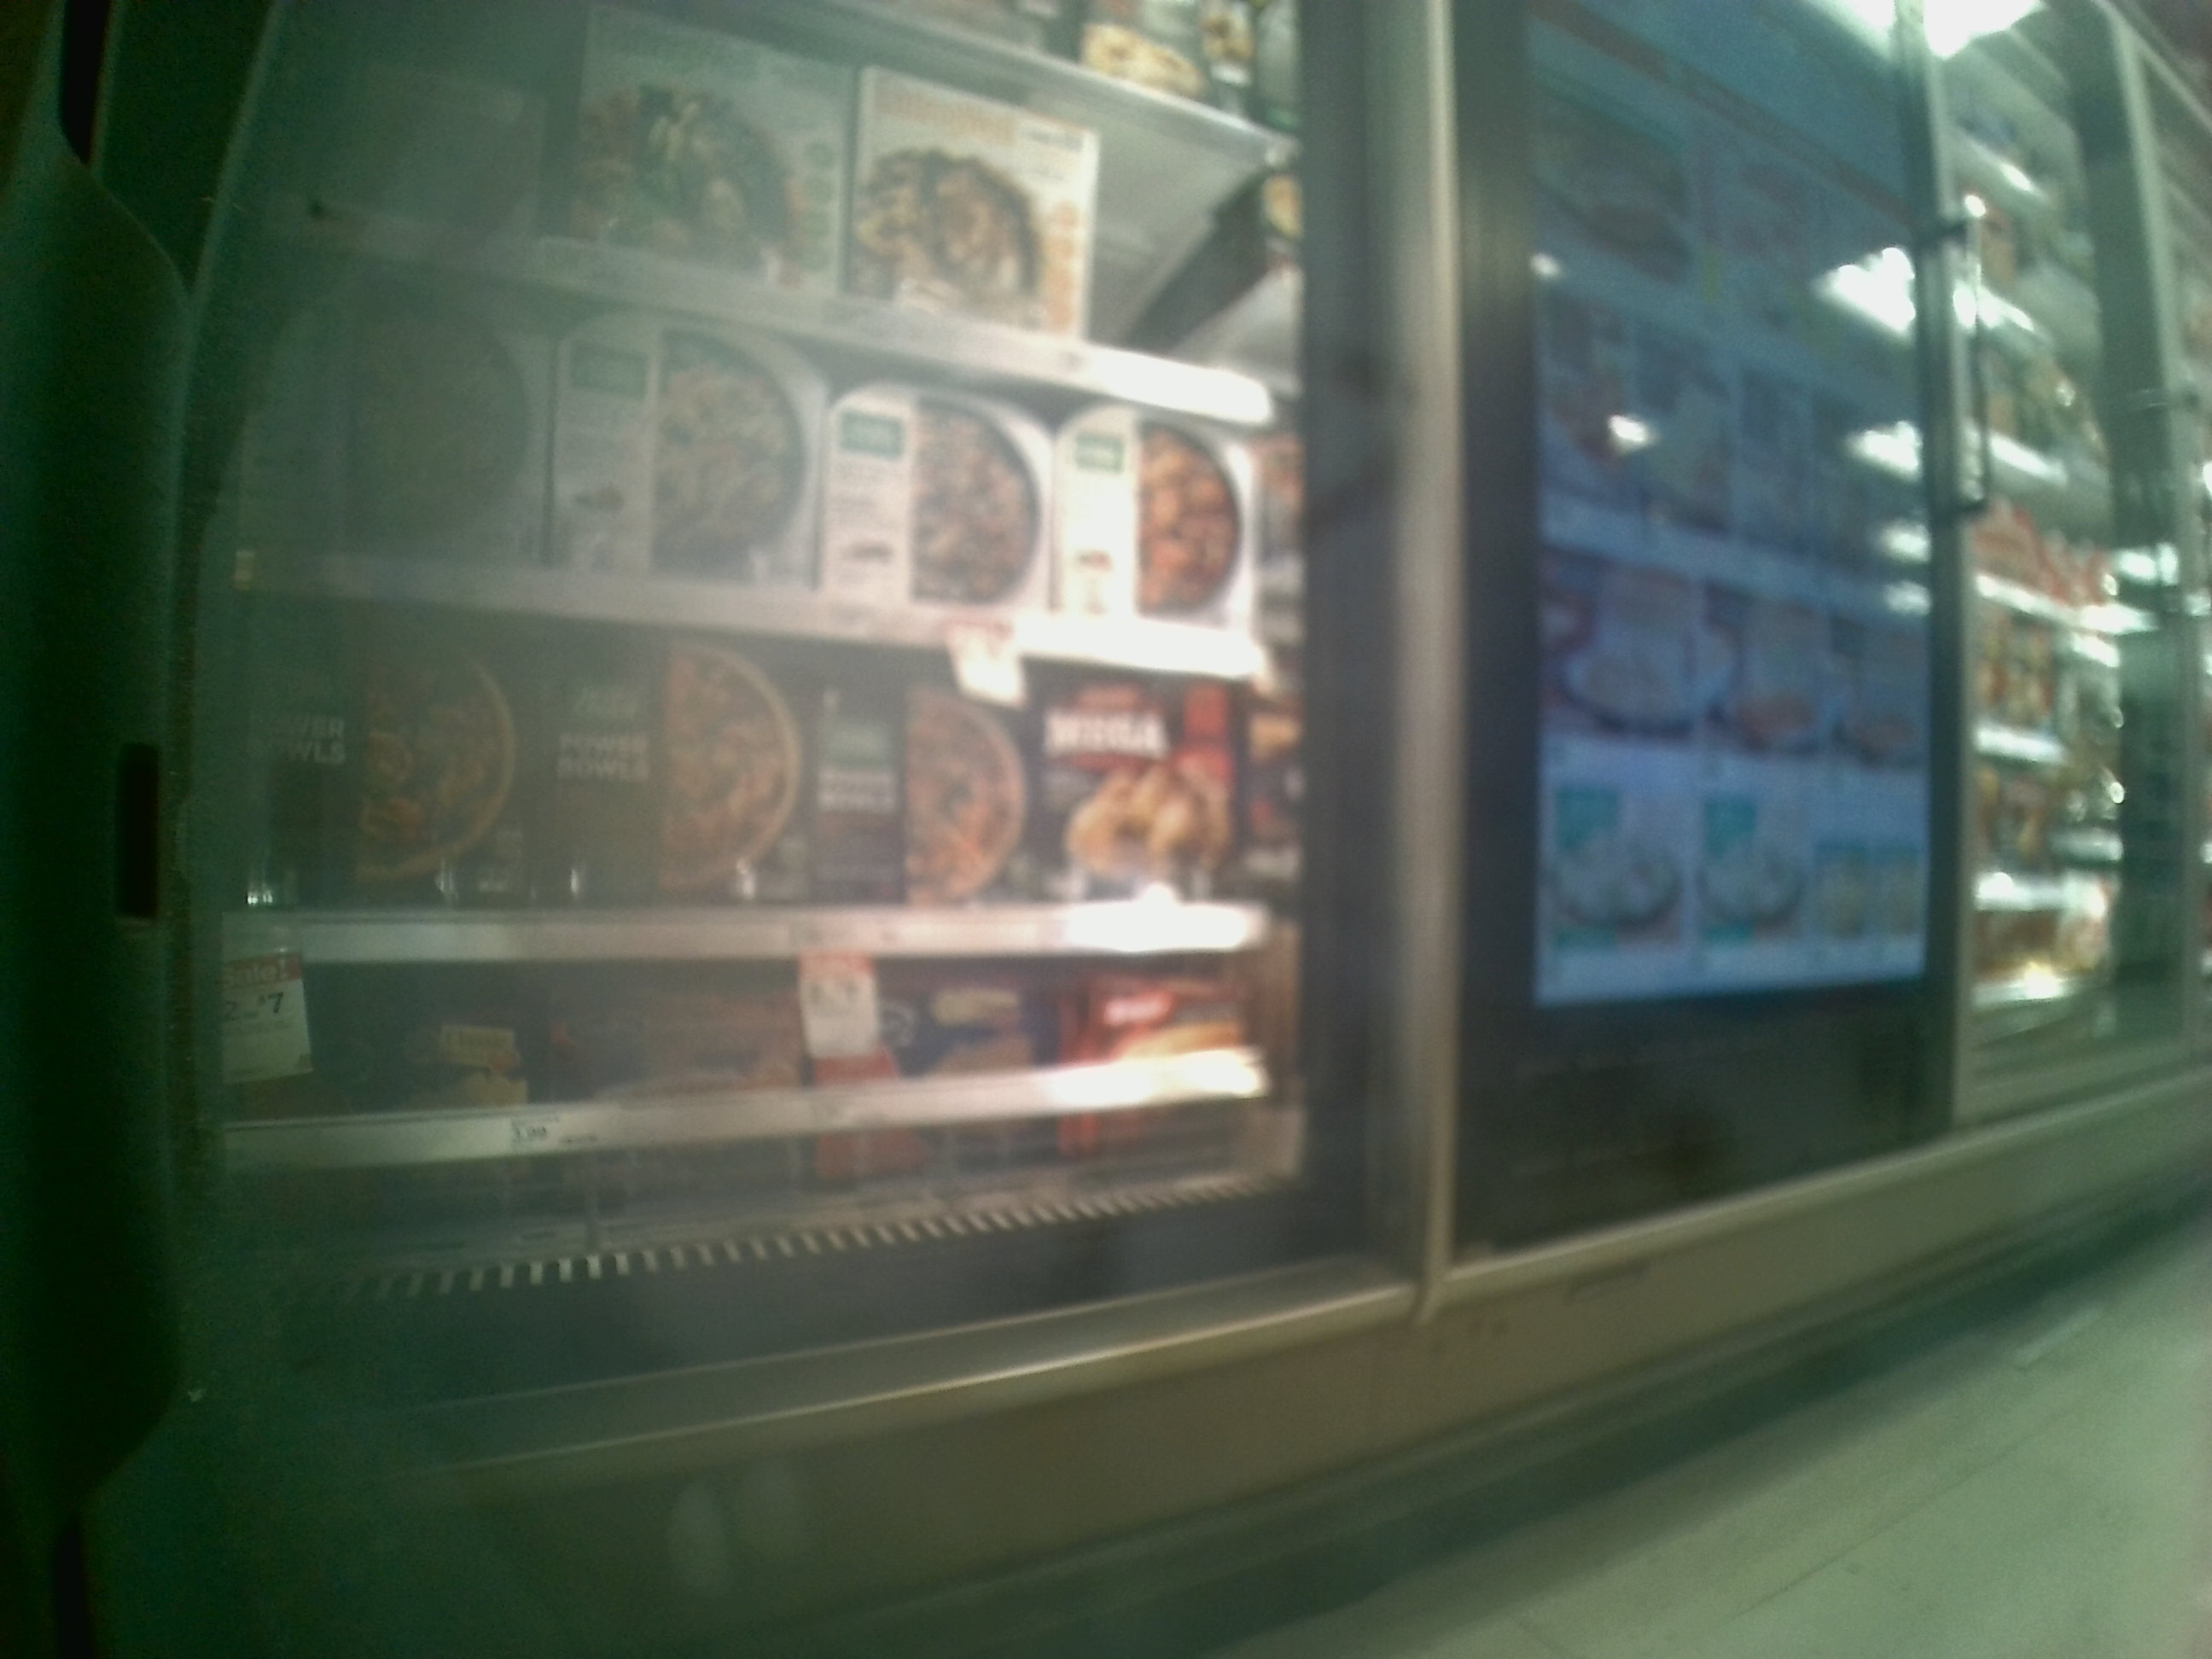pizza: (254, 300, 561, 561), (258, 612, 528, 897), (554, 24, 838, 291), (547, 633, 796, 897), (563, 310, 803, 582), (853, 64, 1089, 321), (824, 364, 1045, 608), (817, 673, 1038, 894), (1035, 683, 1254, 885), (1059, 401, 1251, 612)
